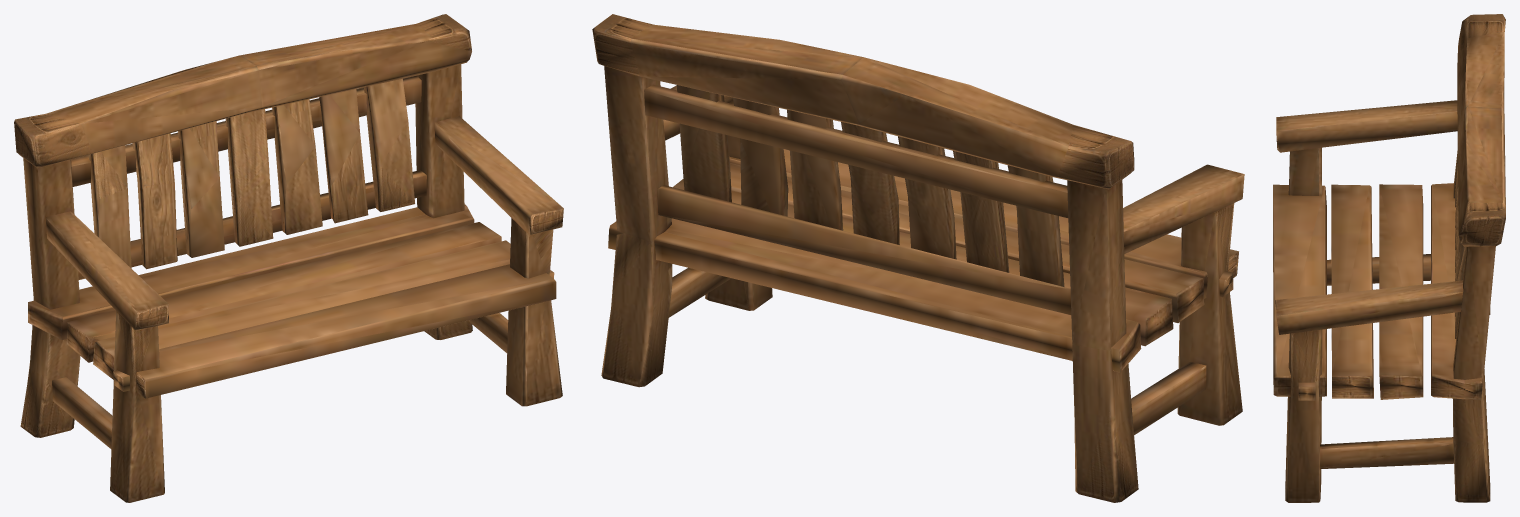
File: bench.glb
3 renders of one model, left to right at view 1: azimuth 30°, elevation 25°; view 2: azimuth 150°, elevation 25°; view 3: azimuth 270°, elevation 25°, orthographic. The views are drawn at different scales.
Parts seen in each view (by area): view 1: bench; view 2: bench; view 3: bench.
Boxes of the visible parts, box(x1,y1,x2,y2) form: bench: box(14, 14, 563, 502); bench: box(592, 14, 1244, 502); bench: box(1273, 14, 1505, 502).
Size of the model in its own units: 1 by 0.6804 by 0.4819.
Materials: 1 (1 with a texture image).
